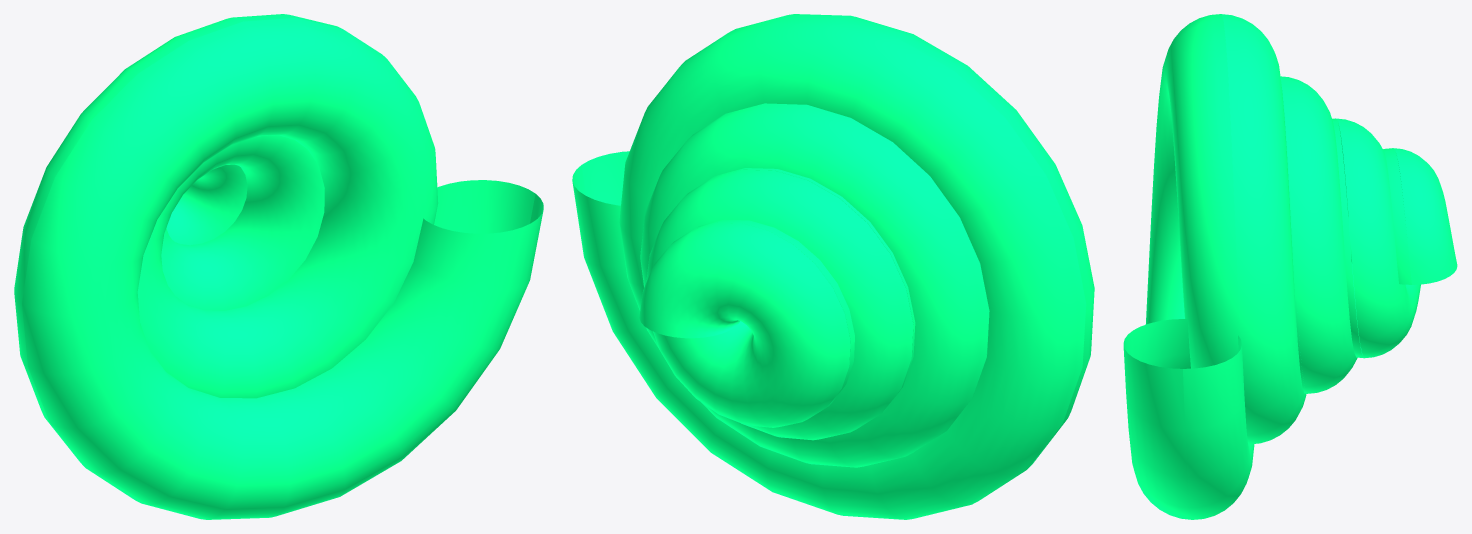
File: fibonacci_spiral_enhanced_ar_universal.glb
3 views of the same model, side by side, from view 1: azimuth 30°, elevation 25°; view 2: azimuth 150°, elevation 25°; view 3: azimuth 270°, elevation 25° (orthographic). The views are drawn at different scales.
Visible parts, largest first — view 1: fibonacci_spiral_enhanced_ar; view 2: fibonacci_spiral_enhanced_ar; view 3: fibonacci_spiral_enhanced_ar.
Boxes of the visible parts, bbox=[...] form: fibonacci_spiral_enhanced_ar: bbox=[14, 14, 543, 519]; fibonacci_spiral_enhanced_ar: bbox=[572, 14, 1094, 519]; fibonacci_spiral_enhanced_ar: bbox=[1123, 14, 1457, 519].
Bounding box in the file's own units: 1 × 0.9219 × 0.6229.
